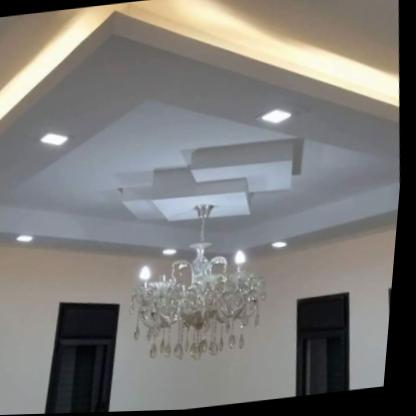Gypsum Board: (0, 0, 416, 296)
